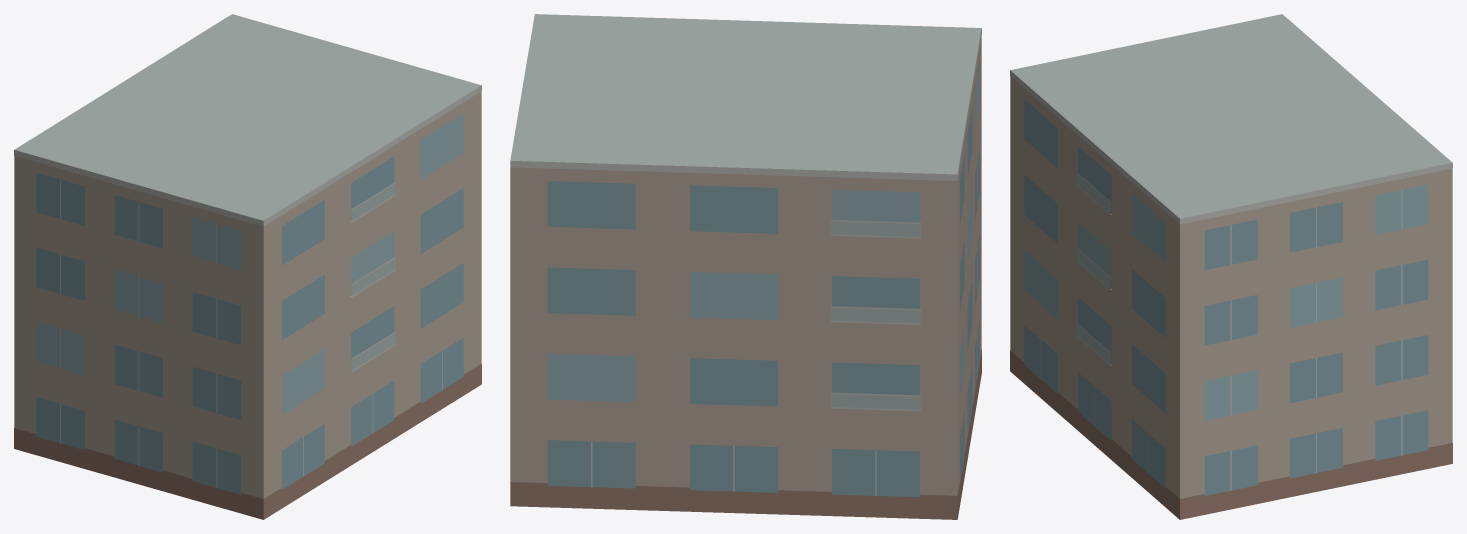
The model's file is survey-upis-32689465.glb.
3 views of the same model, side by side, from view 1: azimuth 30°, elevation 25°; view 2: azimuth 150°, elevation 25°; view 3: azimuth 270°, elevation 25° (orthographic). The views are drawn at different scales.
Visible parts, largest first — view 1: survey-upis-32689465.tmp; view 2: survey-upis-32689465.tmp; view 3: survey-upis-32689465.tmp.
Boxes of the visible parts, x1,y1,x2,y2 form: survey-upis-32689465.tmp: (14, 14, 481, 519); survey-upis-32689465.tmp: (510, 14, 981, 519); survey-upis-32689465.tmp: (1010, 14, 1452, 519).
Bounding box in the file's own units: 18.61 × 12.75 × 17.
